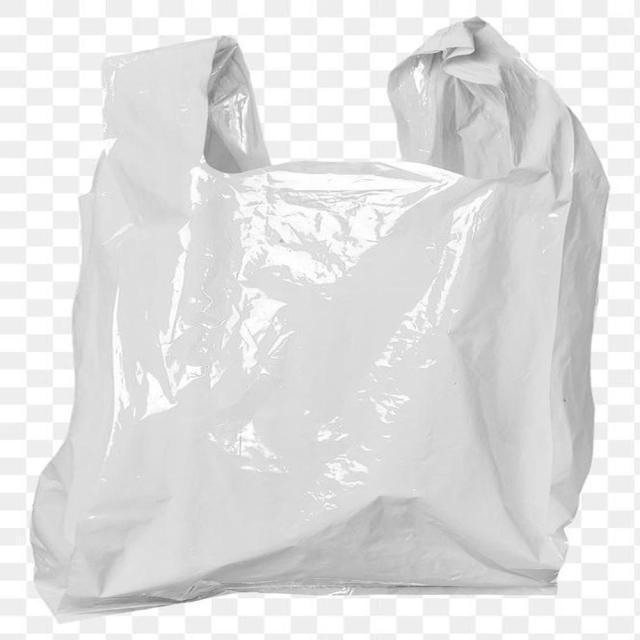Plastic_Bag: (54, 24, 582, 604)
